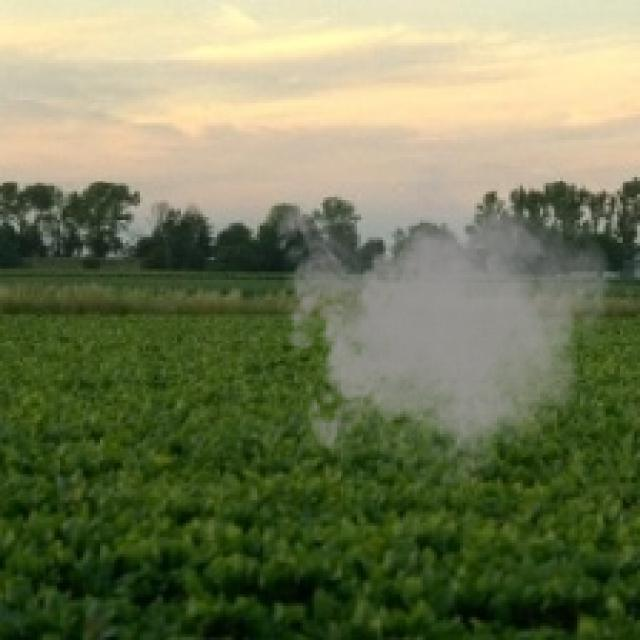Smoke: (266, 148, 618, 503)
